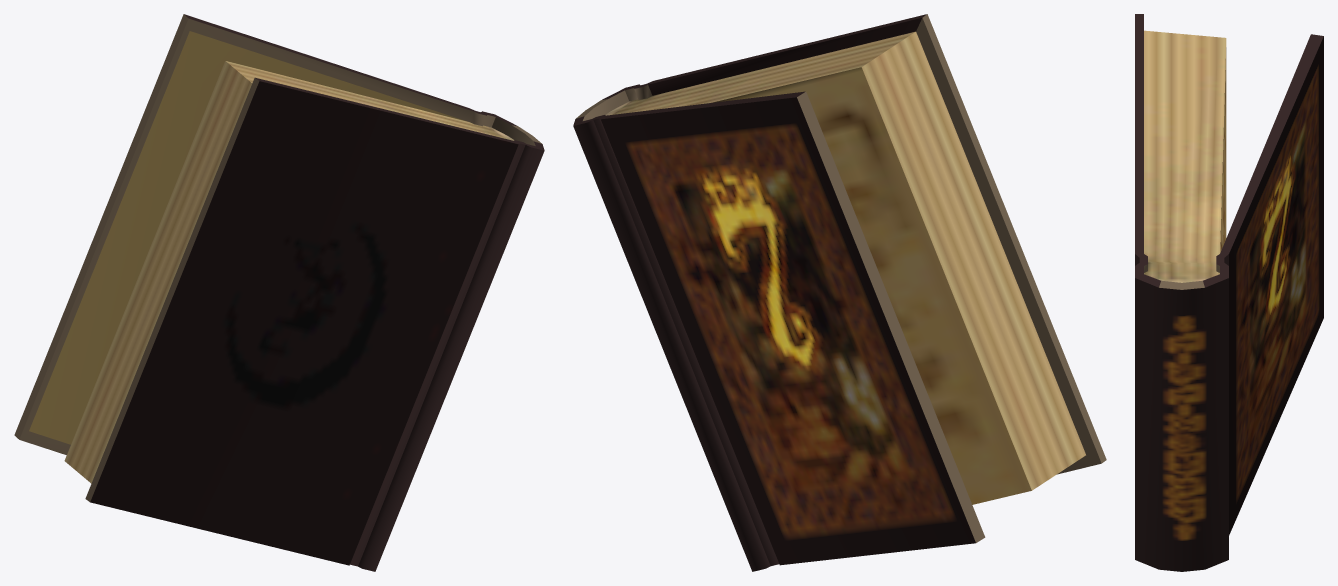
Rendered from seven.ico.obj.
3 renders of one model, left to right at view 1: azimuth 30°, elevation 25°; view 2: azimuth 150°, elevation 25°; view 3: azimuth 270°, elevation 25°, orthographic. The views are drawn at different scales.
Bounding box in the file's own units: 2.49 × 2.67 × 0.918.
Materials: 1 (1 with a texture image).
